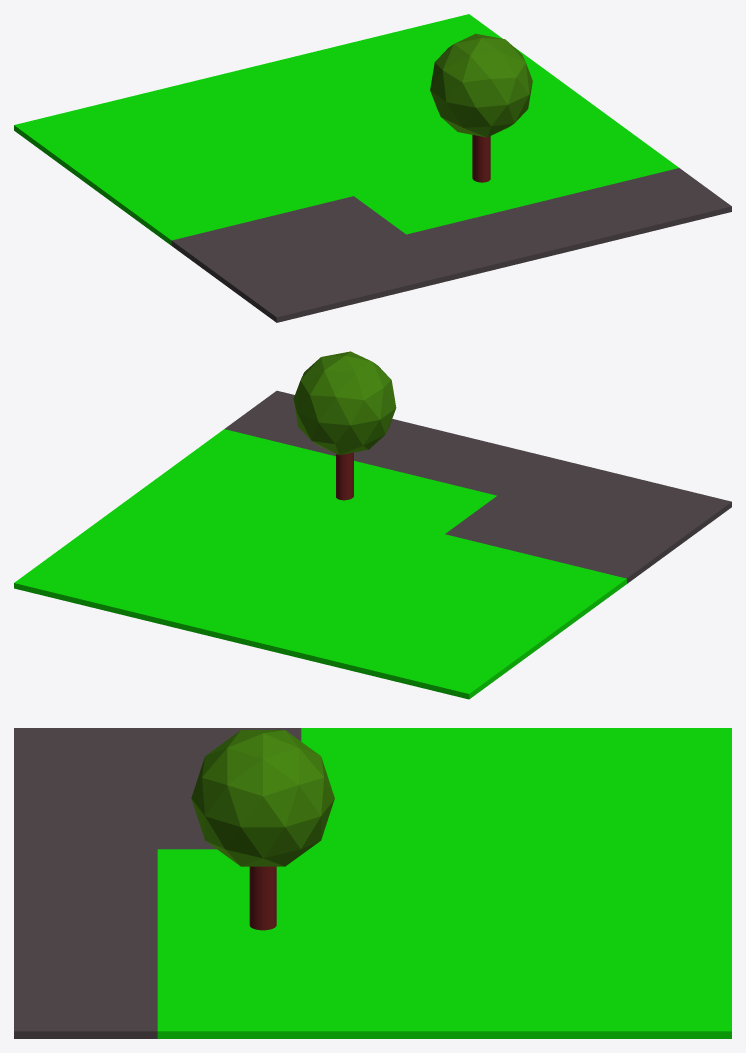
The model's file is Chunk_1_1.glb.
3 views of the same model, one above another, from view 1: azimuth 30°, elevation 25°; view 2: azimuth 150°, elevation 25°; view 3: azimuth 270°, elevation 25° (orthographic). The views are drawn at different scales.
Parts seen in each view (by area): view 1: Icosphere.001, RoadTile.005, RoadTile.006, RoadTile.017, RoadTile.018, RoadTile.019, RoadTile.007, GrassTile.031, GrassTile.029, GrassTile.033, GrassTile.023, RoadTile.008 (+15 smaller); view 2: Icosphere.001, GrassTile.033, GrassTile.034, GrassTile.035, GrassTile.025, GrassTile.026, GrassTile.029, RoadTile.005, GrassTile.031, RoadTile.007, RoadTile.017, GrassTile.079 (+15 smaller); view 3: Icosphere.001, GrassTile.036, GrassTile.081, RoadTile.019, GrassTile.003, GrassTile.035, GrassTile.030, RoadTile.006, GrassTile.034, GrassTile.027, GrassTile.028, GrassTile.029 (+15 smaller).
Boxes of the visible parts, bbox=[...] form: Icosphere.001: bbox=[430, 33, 532, 137]; RoadTile.005: bbox=[224, 257, 367, 322]; RoadTile.006: bbox=[315, 234, 458, 300]; RoadTile.017: bbox=[406, 212, 549, 278]; RoadTile.018: bbox=[498, 190, 640, 256]; RoadTile.019: bbox=[588, 168, 731, 233]; RoadTile.007: bbox=[171, 218, 314, 283]; GrassTile.031: bbox=[119, 180, 262, 245]; GrassTile.029: bbox=[66, 141, 209, 206]; GrassTile.033: bbox=[14, 103, 156, 168]; GrassTile.023: bbox=[301, 135, 444, 195]; RoadTile.008: bbox=[263, 196, 405, 256]; Icosphere.001: bbox=[293, 351, 396, 455]; GrassTile.033: bbox=[378, 633, 521, 699]; GrassTile.034: bbox=[287, 611, 430, 677]; GrassTile.035: bbox=[14, 544, 156, 610]; GrassTile.025: bbox=[196, 589, 339, 654]; GrassTile.026: bbox=[105, 566, 247, 632]; GrassTile.029: bbox=[431, 595, 574, 660]; RoadTile.005: bbox=[589, 479, 731, 545]; GrassTile.031: bbox=[483, 556, 626, 622]; RoadTile.007: bbox=[536, 518, 679, 583]; RoadTile.017: bbox=[406, 435, 549, 495]; GrassTile.079: bbox=[354, 473, 496, 533]; Icosphere.001: bbox=[191, 730, 334, 866]; GrassTile.036: bbox=[444, 970, 588, 1038]; GrassTile.081: bbox=[157, 970, 301, 1038]; RoadTile.019: bbox=[14, 970, 157, 1038]; GrassTile.003: bbox=[301, 970, 444, 1038]; GrassTile.035: bbox=[588, 970, 731, 1038]; GrassTile.030: bbox=[444, 788, 588, 849]; RoadTile.006: bbox=[14, 788, 157, 849]; GrassTile.034: bbox=[588, 788, 731, 849]; GrassTile.027: bbox=[444, 849, 588, 909]; GrassTile.028: bbox=[444, 910, 588, 970]; GrassTile.029: bbox=[444, 728, 588, 788].
Size of the model in its own units: 10 by 3.07 by 10.
